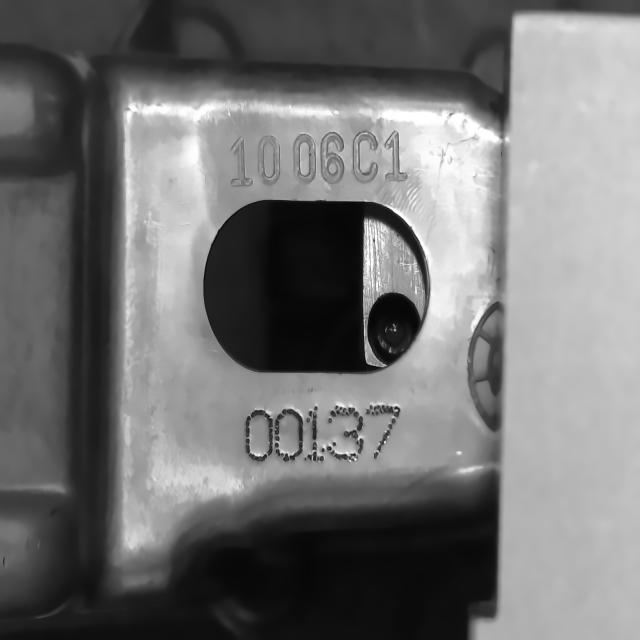DotPeeningText: (238, 394, 407, 468)
MachinePeeningText: (223, 124, 414, 192)
